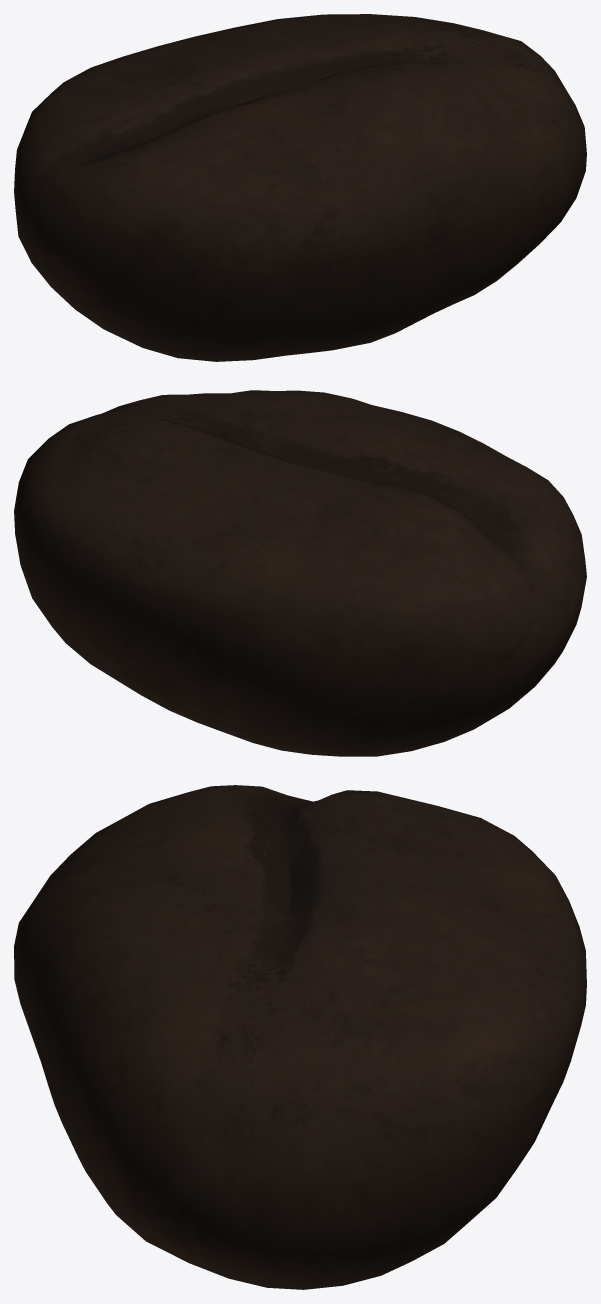
File: coffee_bean.glb
3 views of the same model, one above another, from view 1: azimuth 30°, elevation 25°; view 2: azimuth 150°, elevation 25°; view 3: azimuth 270°, elevation 25° (orthographic). The views are drawn at different scales.
Parts seen in each view (by area): view 1: Default_Default_0; view 2: Default_Default_0; view 3: Default_Default_0.
Boxes of the visible parts, <box> form: Default_Default_0: <box>14,14,586,361</box>; Default_Default_0: <box>14,390,586,756</box>; Default_Default_0: <box>14,785,586,1289</box>.
Size of the model in its own units: 4.29 by 2.05 by 3.1.
1 material, 1 textured.
